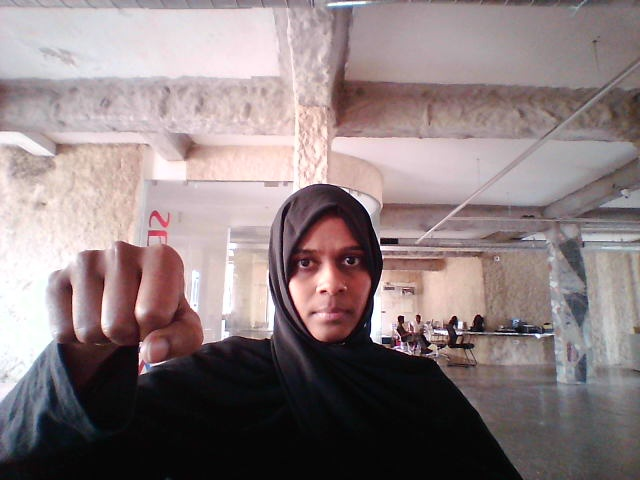YES: (30, 232, 242, 392)
